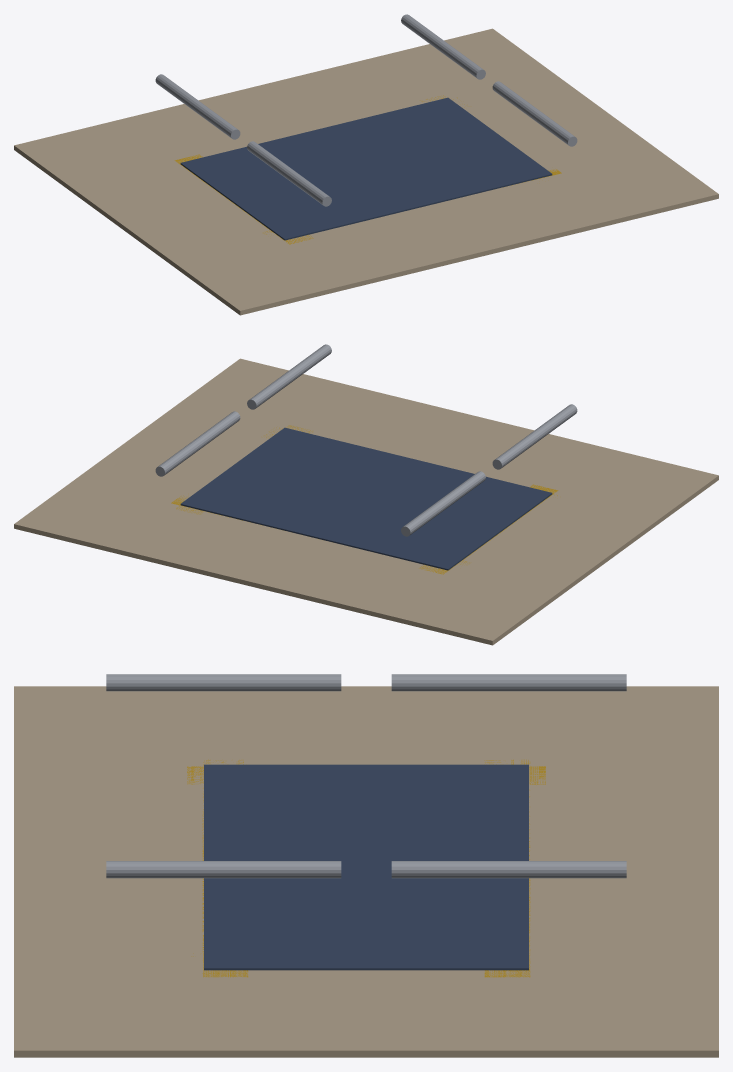
Rendered from stage_04_columns.glb.
3 renders of one model, top to bottom at view 1: azimuth 30°, elevation 25°; view 2: azimuth 150°, elevation 25°; view 3: azimuth 270°, elevation 25°, orthographic. The views are drawn at different scales.
Parts seen in each view (by area): view 1: world; view 2: world; view 3: world.
Boxes of the visible parts, box(x1,y1,x2,y2) form: world: box(14, 14, 718, 315); world: box(14, 344, 718, 645); world: box(14, 674, 718, 1057).
Bounding box in the file's own units: 11 × 2.21 × 9.
